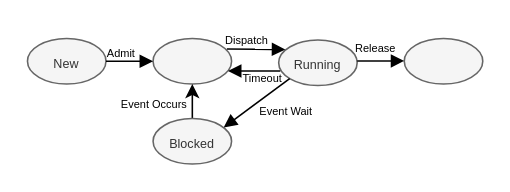
Some shapes in this 510 by 192 pixel diagram are drawn without their labels. The box of each missing label's shape, as (x1, y1, x2, y2) in pixels:
Exit: (403, 37, 483, 84)
Ready: (152, 37, 232, 84)
